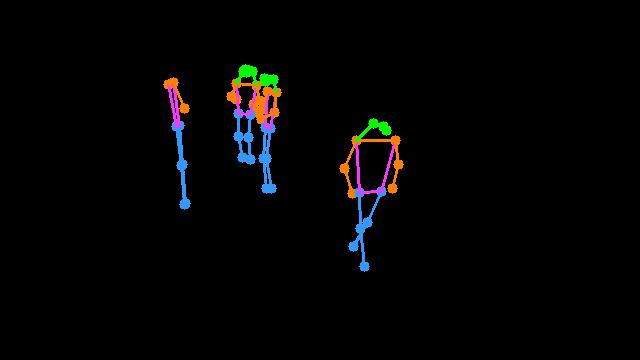normal: (316, 102, 422, 287), (208, 46, 300, 209), (144, 69, 213, 231)
